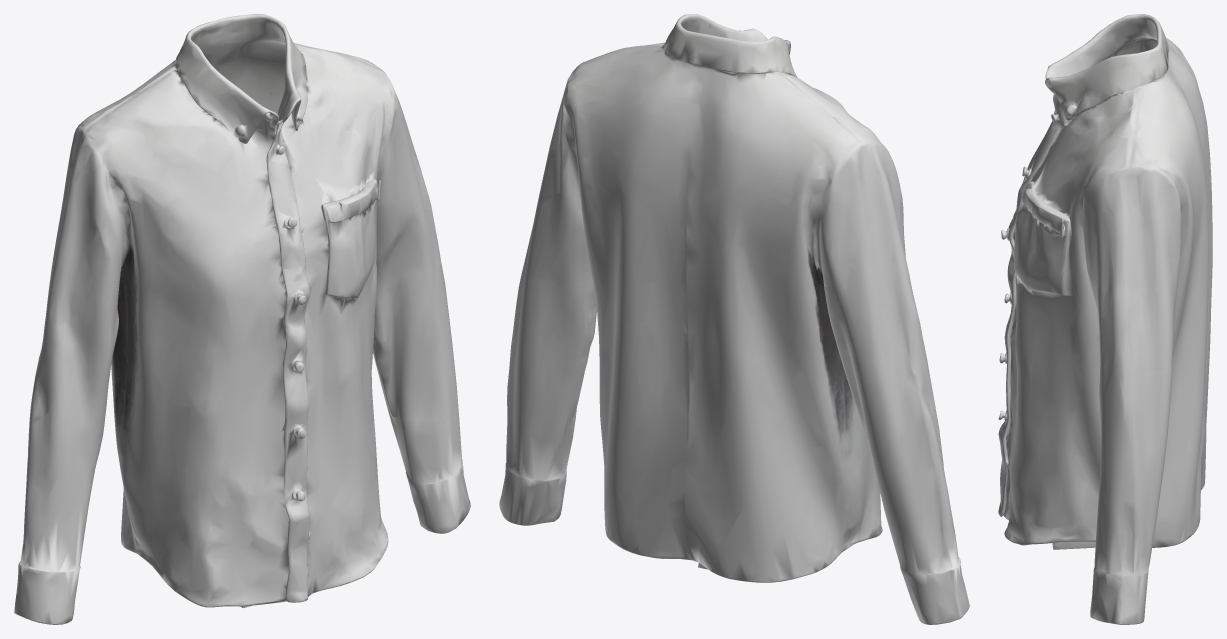
The picture shows the model from 3 angles, left to right: view 1: azimuth 30°, elevation 25°; view 2: azimuth 150°, elevation 25°; view 3: azimuth 270°, elevation 25°; orthographic projection. The views are drawn at different scales.
Visible parts, largest first — view 1: tripo_node_9811e6cc-6dd6-4c40-be74-8359ffdc1c19; view 2: tripo_node_9811e6cc-6dd6-4c40-be74-8359ffdc1c19; view 3: tripo_node_9811e6cc-6dd6-4c40-be74-8359ffdc1c19.
Boxes of the visible parts, x1,y1,x2,y2 form: tripo_node_9811e6cc-6dd6-4c40-be74-8359ffdc1c19: [14, 14, 470, 624]; tripo_node_9811e6cc-6dd6-4c40-be74-8359ffdc1c19: [499, 14, 969, 624]; tripo_node_9811e6cc-6dd6-4c40-be74-8359ffdc1c19: [998, 14, 1212, 624].
Bounding box in the file's own units: 0.8809 × 0.9999 × 0.3873.
Materials: 1 (1 with a texture image).
